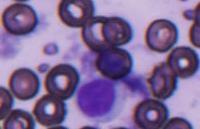L: (76, 75, 119, 121)
